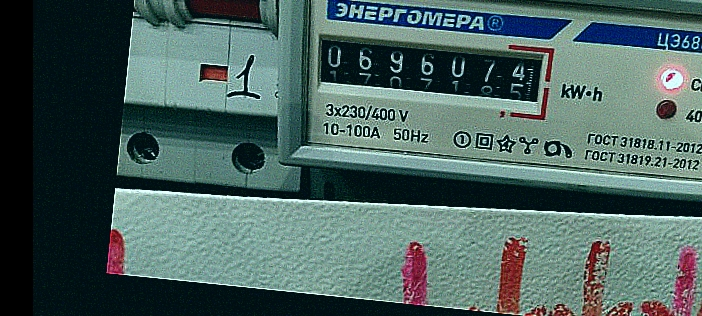0: (323, 42, 344, 68), (449, 52, 468, 79)
4: (510, 57, 529, 82)
5: (508, 81, 525, 100)
6: (356, 43, 377, 72), (417, 50, 437, 76)
7: (478, 56, 499, 83)
9: (386, 47, 407, 74)
screen: (301, 18, 560, 124)
